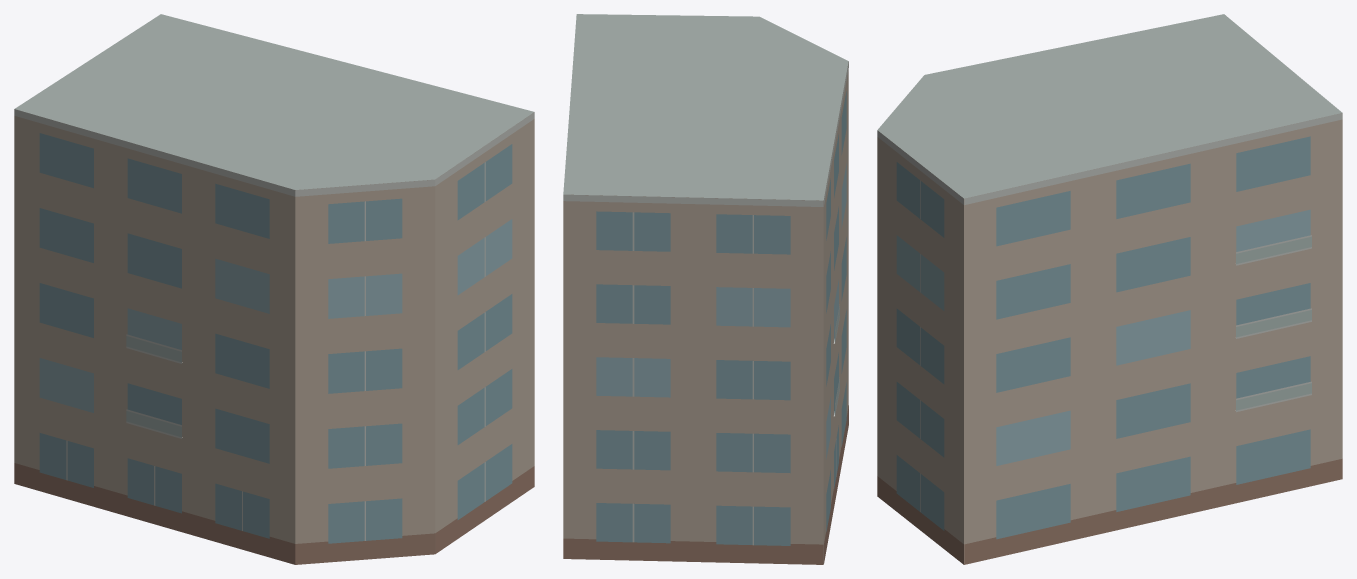
File: survey-upis-32891422.glb
The picture shows the model from 3 angles, left to right: view 1: azimuth 30°, elevation 25°; view 2: azimuth 150°, elevation 25°; view 3: azimuth 270°, elevation 25°; orthographic projection. The views are drawn at different scales.
Visible parts, largest first — view 1: survey-upis-32891422.tmp; view 2: survey-upis-32891422.tmp; view 3: survey-upis-32891422.tmp.
Boxes of the visible parts, box(x1,y1,x2,y2) form: survey-upis-32891422.tmp: box(14, 14, 534, 564); survey-upis-32891422.tmp: box(563, 14, 848, 564); survey-upis-32891422.tmp: box(877, 14, 1342, 564).
Bounding box in the file's own units: 14.66 × 13.55 × 15.61.
